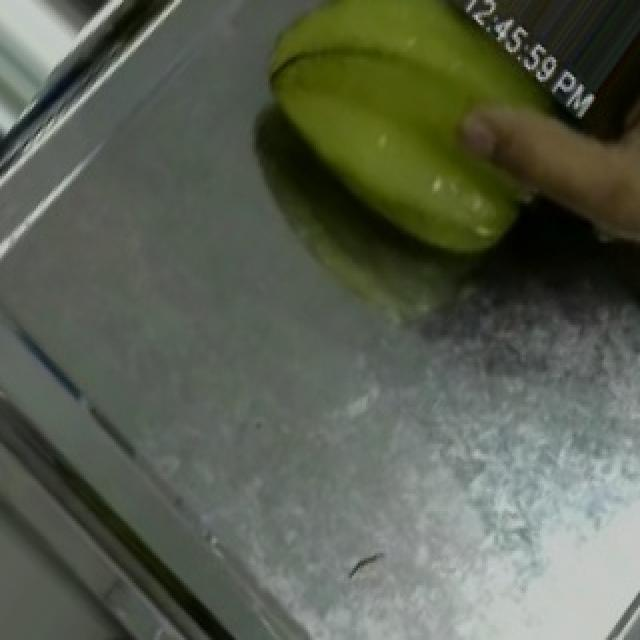fruit: (224, 2, 600, 288)
